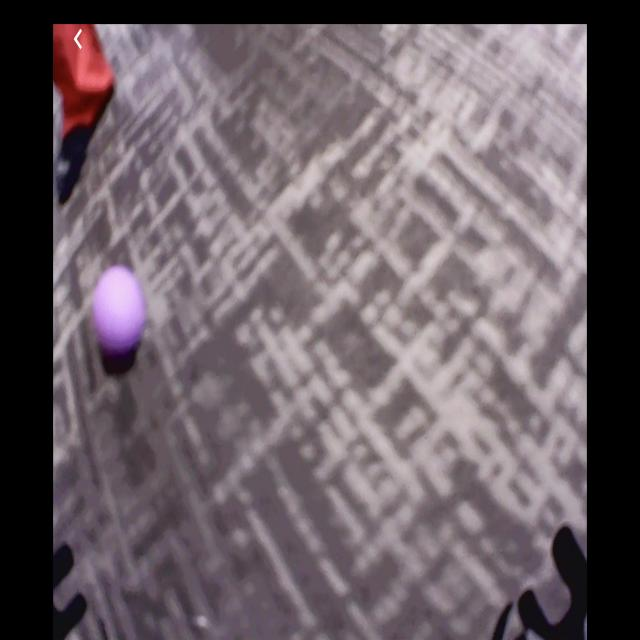ball: (95, 268, 144, 352)
